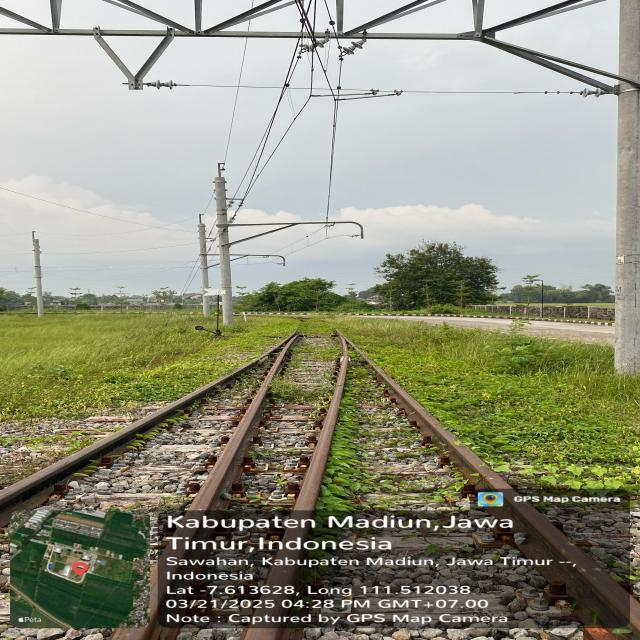rail-detection: (290, 330, 640, 635), (0, 332, 301, 524), (243, 549, 300, 640)
